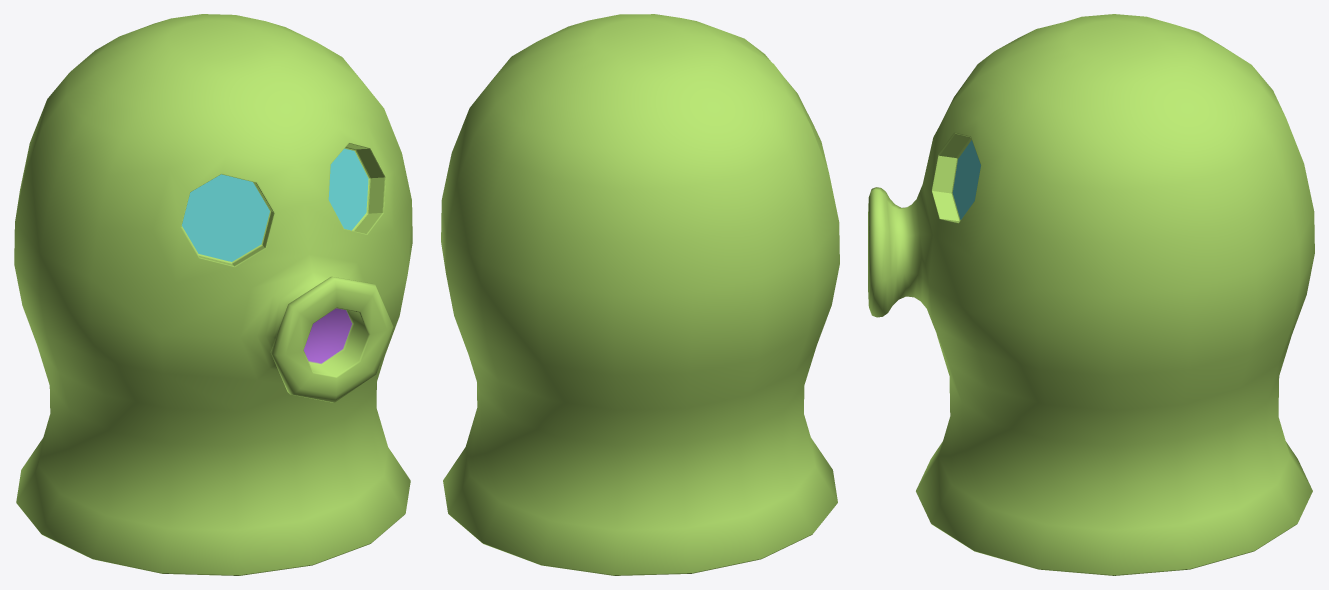
Rendered from Enemy.fbx.
The picture shows the model from 3 angles, left to right: view 1: azimuth 30°, elevation 25°; view 2: azimuth 150°, elevation 25°; view 3: azimuth 270°, elevation 25°; orthographic projection.
Parts seen in each view (by area): view 1: Enemy; view 2: Enemy; view 3: Enemy.
Part boxes in pixels (x1=…): Enemy: x1=14, y1=14, x2=412, y2=575; Enemy: x1=441, y1=14, x2=839, y2=575; Enemy: x1=868, y1=14, x2=1314, y2=575.
Size of the model in its own units: 1.29 by 1.6 by 1.43.
